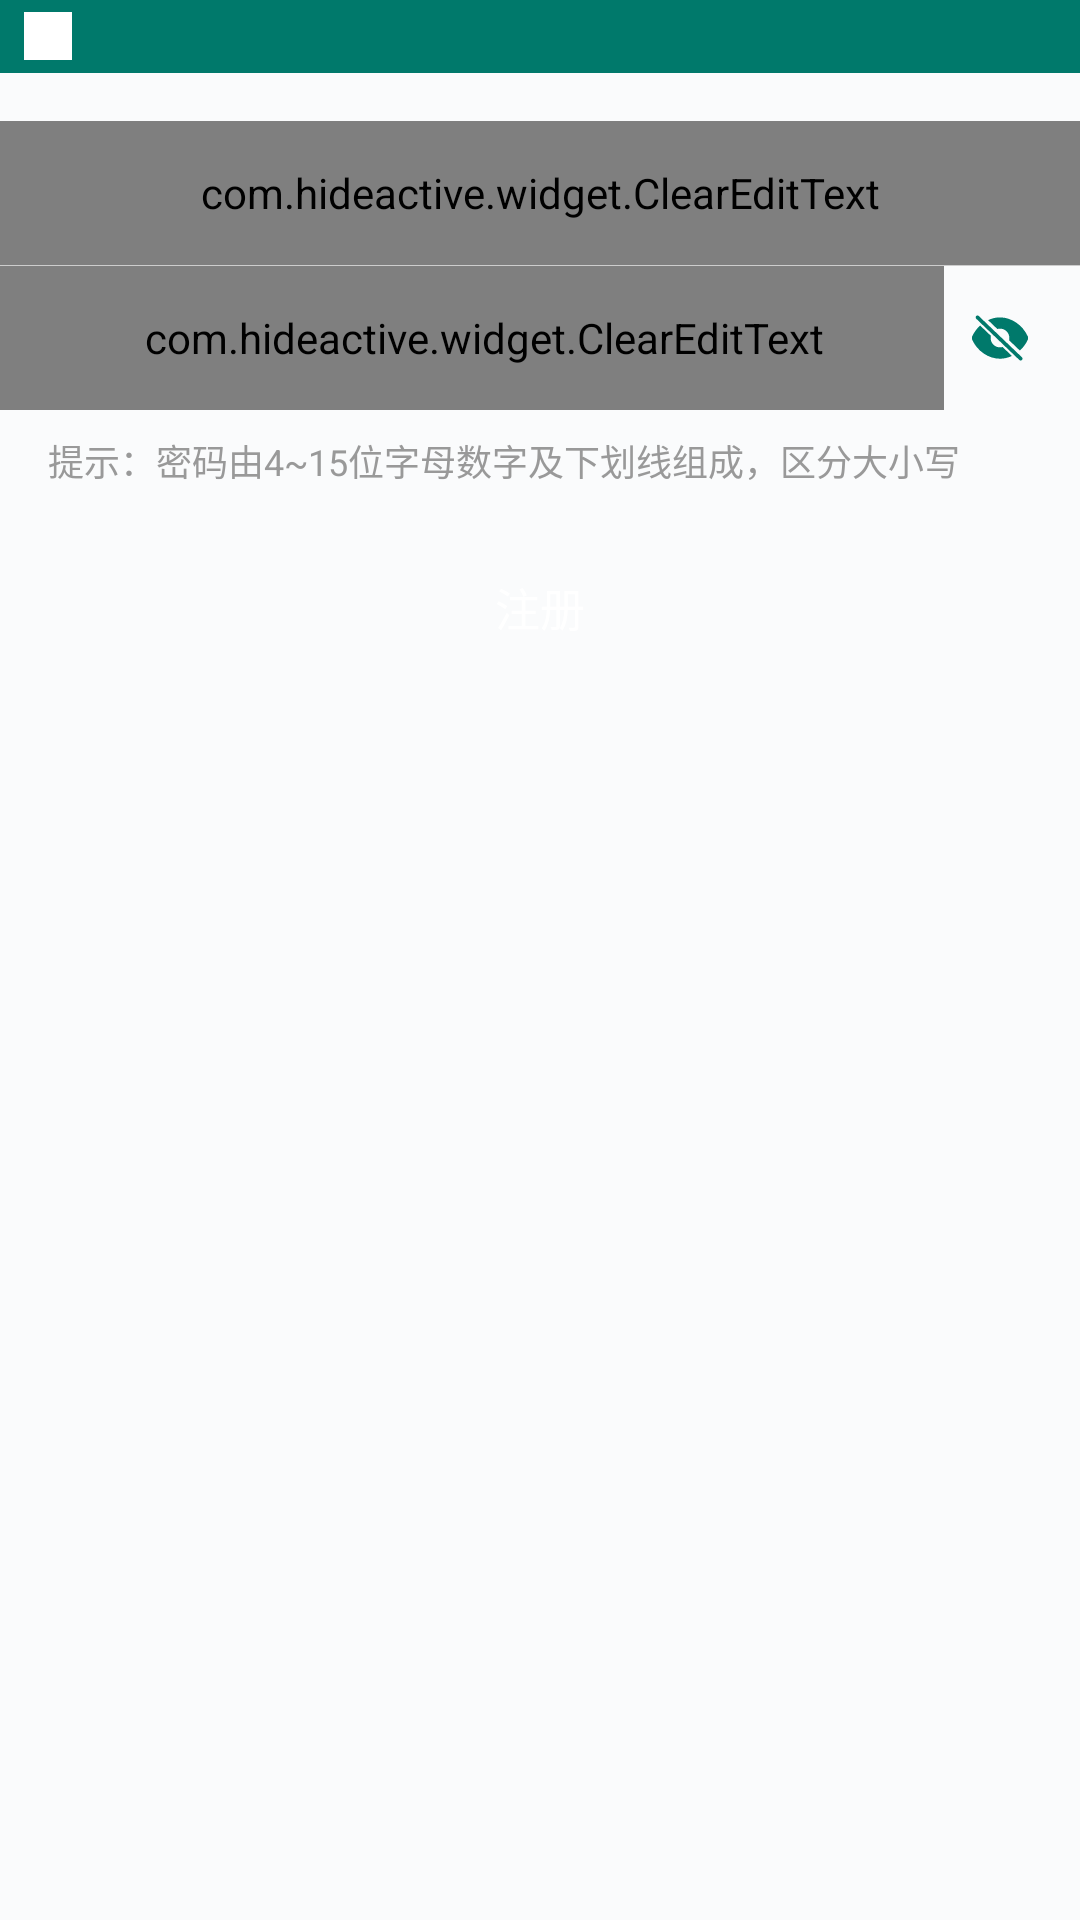

Icons on this 1080 × 1920 Android screen, each with the point to tap as (x,y):
eye: (1000,338)
